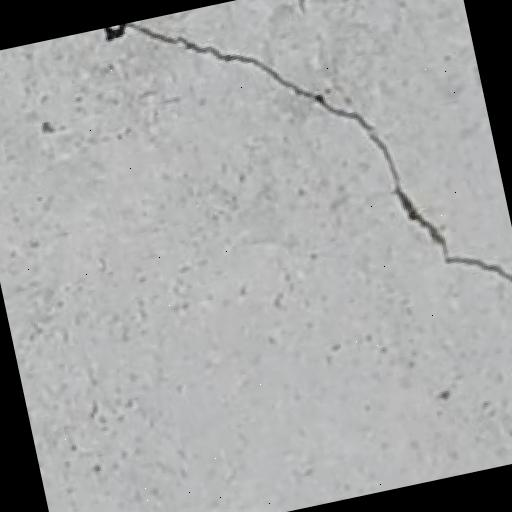spalling: (115, 20, 512, 303)
